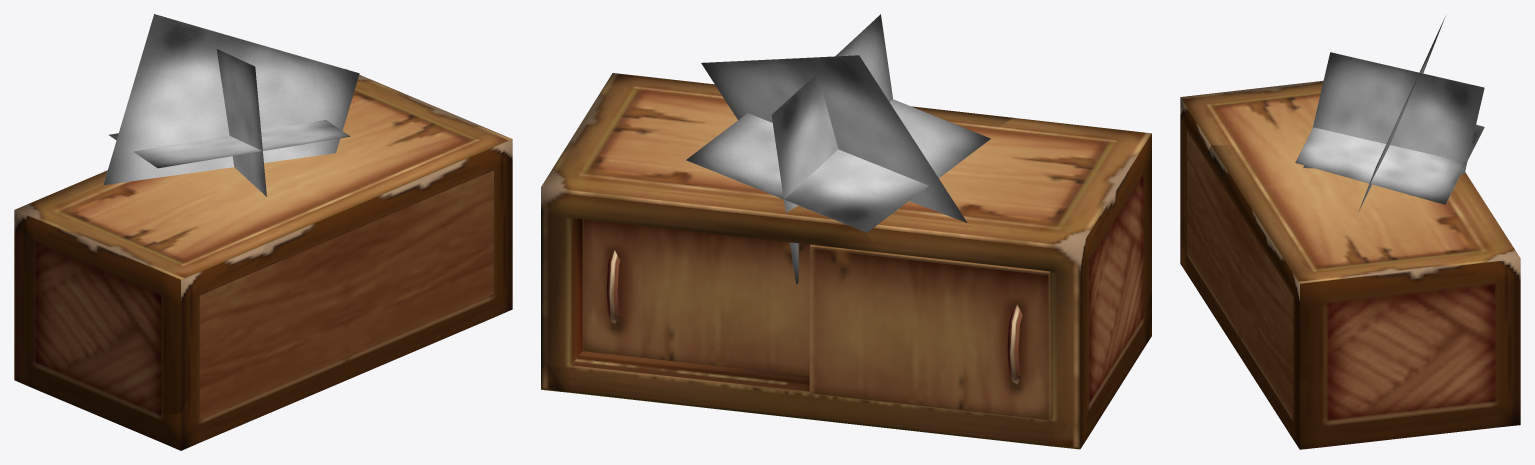
The model's file is a_SWGcase02b_01.glb.
3 views of the same model, side by side, from view 1: azimuth 30°, elevation 25°; view 2: azimuth 150°, elevation 25°; view 3: azimuth 270°, elevation 25° (orthographic). The views are drawn at different scales.
Parts seen in each view (by area): view 1: a_SWGcase02b_01; view 2: a_SWGcase02b_01; view 3: a_SWGcase02b_01.
Part boxes in pixels (<box>): a_SWGcase02b_01: <box>14,14,512,450</box>; a_SWGcase02b_01: <box>541,14,1151,449</box>; a_SWGcase02b_01: <box>1180,16,1520,449</box>.
Bounding box in the file's own units: 1.53 × 1.02 × 1.04.
Materials: 2 (2 with a texture image).
